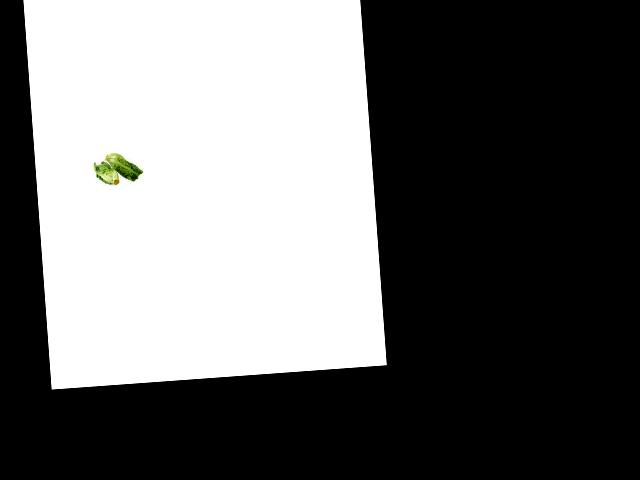lettuce: (92, 159, 121, 190)
